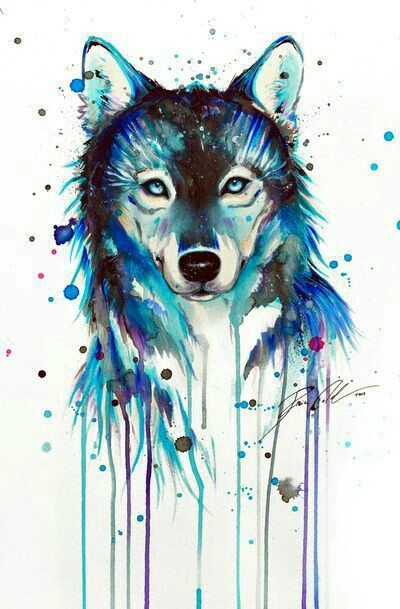Lobo: (42, 19, 368, 454)
